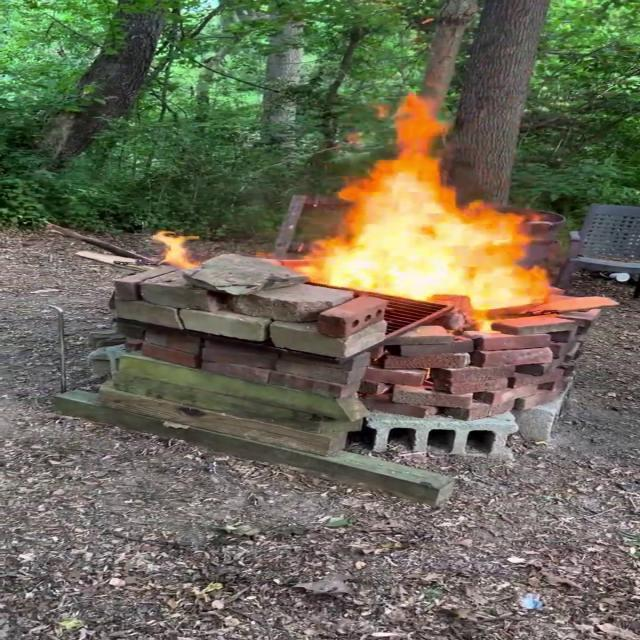Fire: (293, 84, 570, 326), (152, 228, 205, 270)
